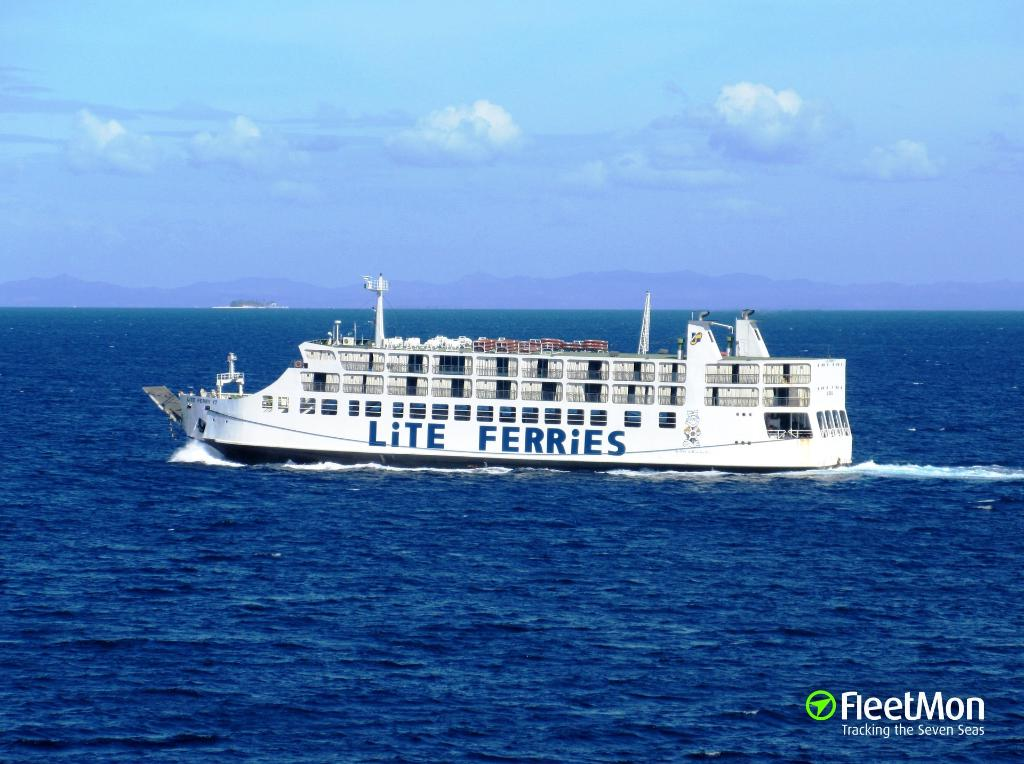PassengerShip: (128, 275, 858, 489)
